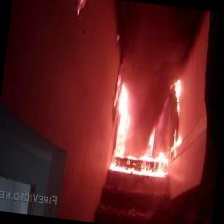fire: (103, 64, 189, 183)
